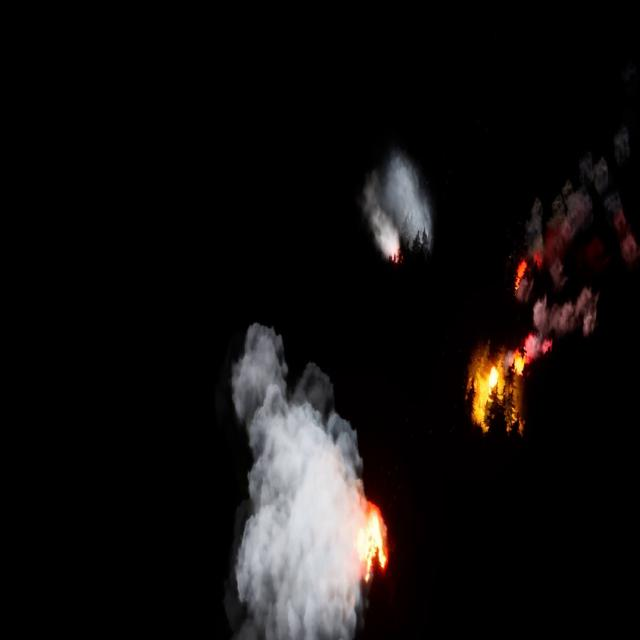fire: (468, 340, 529, 433), (355, 495, 397, 577)
smoke: (233, 323, 373, 639), (512, 152, 636, 366), (364, 154, 442, 258)
